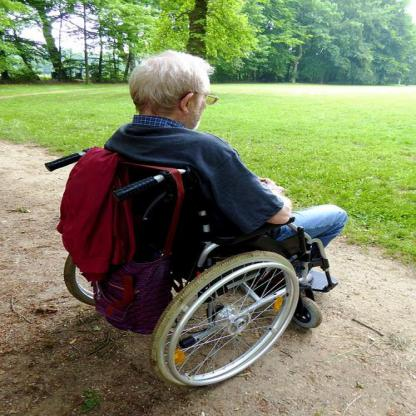wheelchair: (42, 48, 342, 385)
